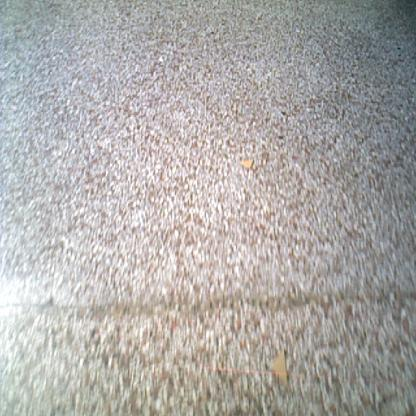dirty: (268, 344, 290, 389), (236, 156, 256, 171)
